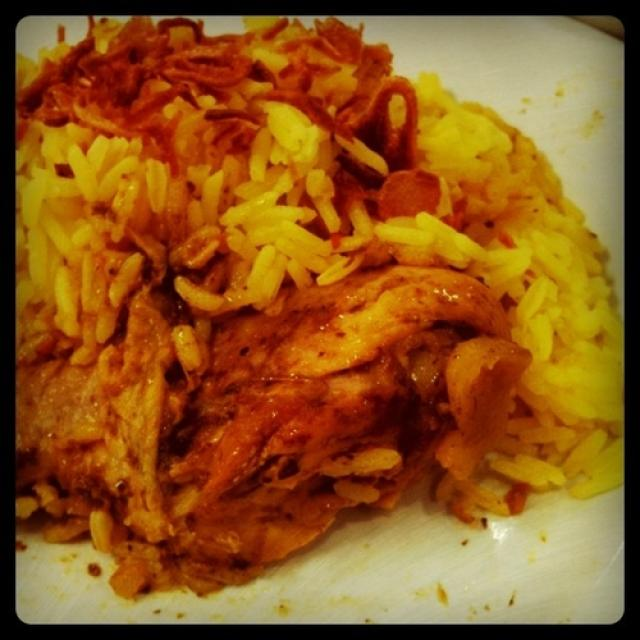米饭主食: (22, 18, 613, 613)
